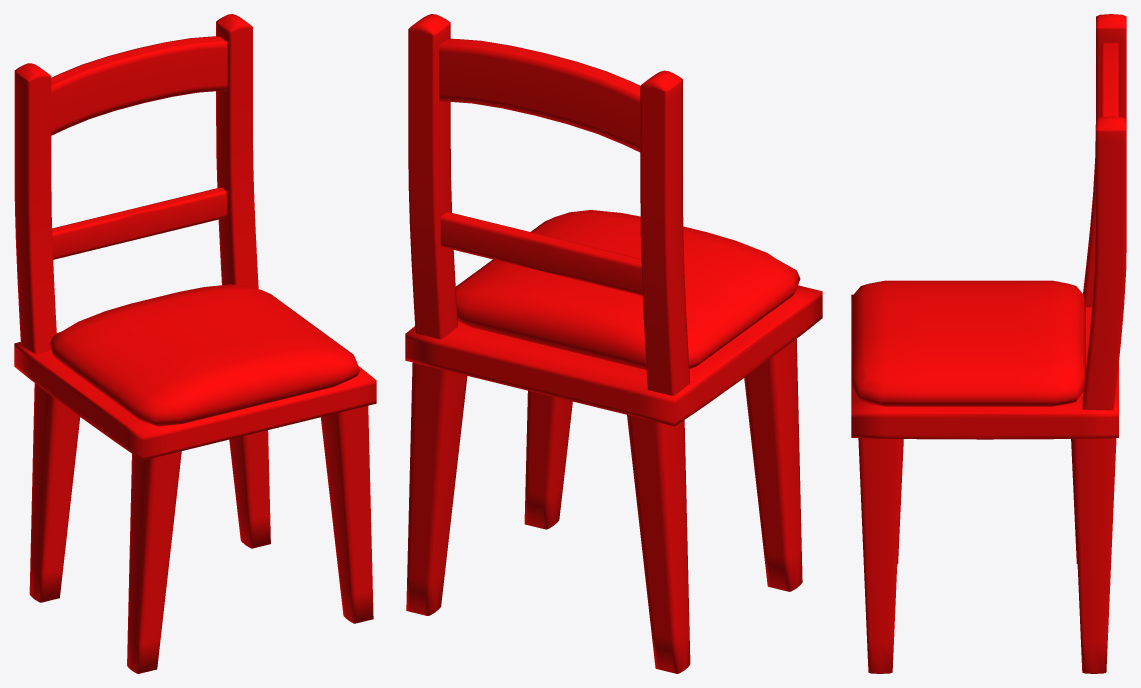
Rendered from SM_Chaise.FBX.
3 views of the same model, side by side, from view 1: azimuth 30°, elevation 25°; view 2: azimuth 150°, elevation 25°; view 3: azimuth 270°, elevation 25° (orthographic). The views are drawn at different scales.
Size of the model in its own units: 72.03 by 149 by 68.34.
